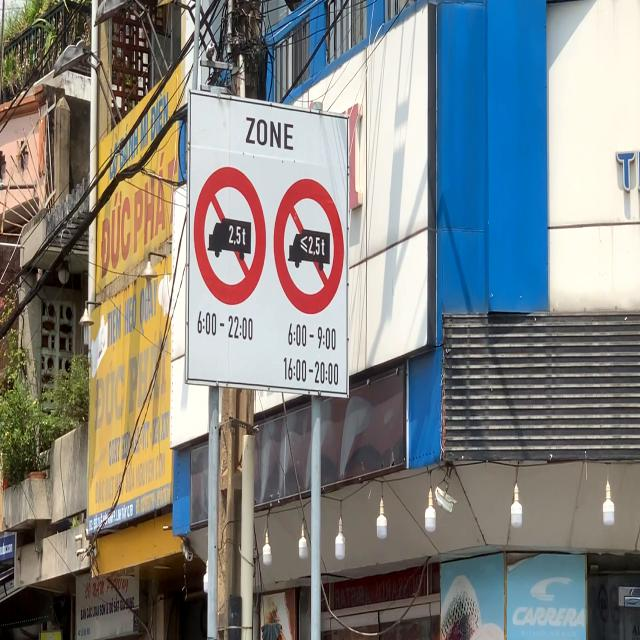P.106b: (193, 166, 267, 306), (273, 178, 345, 315)
